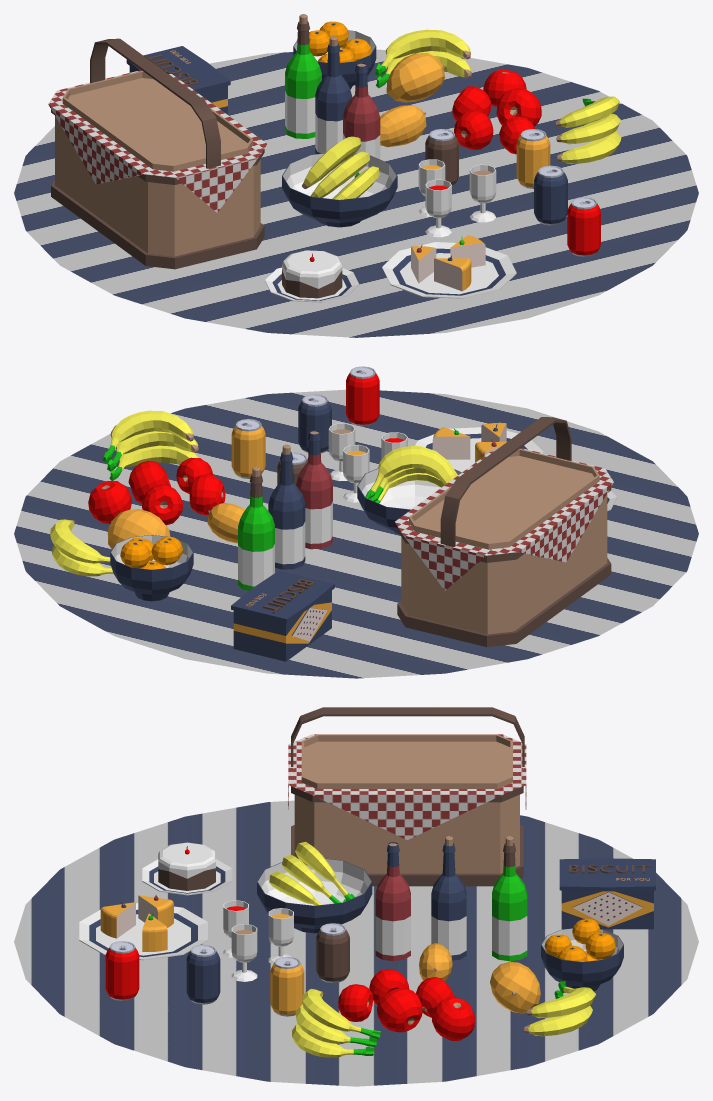
Rendered from low_poly_picnic_asset_pack.glb.
3 views of the same model, one above another, from view 1: azimuth 30°, elevation 25°; view 2: azimuth 150°, elevation 25°; view 3: azimuth 270°, elevation 25° (orthographic).
Parts seen in each view (by area): view 1: SM_zhuobu, SM_fanhe, SM_yilaguan, SM_fruit_banana01, SM_fruit_apple, SM_wan01, SM_fruit_mango, SM_dangao, SM_panzi_01, SM_cup, pCylinder3, SM_fruit_banana02 (+6 smaller); view 2: SM_zhuobu, SM_fanhe, SM_biscuit_box, SM_fruit_banana01, SM_yilaguan, SM_fruit_apple, pCylinder3, pCylinder2, pCylinder1, SM_fruit_banana02, SM_wan02, SM_fruit_mango (+5 smaller); view 3: SM_zhuobu, SM_fanhe, SM_yilaguan, SM_biscuit_box, SM_fruit_apple, SM_fruit_banana01, SM_wan01, SM_dangao, pCylinder3, pCylinder1, SM_panzi_01, SM_cup (+6 smaller).
Part boxes in pixels (bbox=[...]): SM_zhuobu: bbox=[14, 49, 698, 337]; SM_fanhe: bbox=[48, 38, 266, 269]; SM_yilaguan: bbox=[425, 129, 600, 256]; SM_fruit_banana01: bbox=[375, 29, 621, 163]; SM_fruit_apple: bbox=[452, 69, 541, 154]; SM_wan01: bbox=[282, 153, 397, 227]; SM_fruit_mango: bbox=[380, 52, 444, 147]; SM_dangao: bbox=[265, 250, 359, 302]; SM_panzi_01: bbox=[382, 242, 516, 298]; SM_cup: bbox=[418, 159, 496, 237]; pCylinder3: bbox=[285, 14, 321, 138]; SM_fruit_banana02: bbox=[302, 136, 379, 199]; SM_zhuobu: bbox=[14, 389, 698, 678]; SM_fanhe: bbox=[395, 417, 613, 647]; SM_biscuit_box: bbox=[231, 570, 334, 661]; SM_fruit_banana01: bbox=[50, 410, 198, 576]; SM_yilaguan: bbox=[231, 366, 379, 484]; SM_fruit_apple: bbox=[88, 457, 225, 525]; pCylinder3: bbox=[238, 466, 274, 590]; pCylinder2: bbox=[268, 444, 305, 569]; pCylinder1: bbox=[296, 430, 332, 549]; SM_fruit_banana02: bbox=[365, 446, 457, 503]; SM_wan02: bbox=[110, 535, 193, 601]; SM_fruit_mango: bbox=[107, 503, 245, 549]; SM_zhuobu: bbox=[14, 800, 698, 1086]; SM_fanhe: bbox=[288, 707, 526, 886]; SM_yilaguan: bbox=[105, 923, 349, 1016]; SM_biscuit_box: bbox=[559, 858, 655, 929]; SM_fruit_apple: bbox=[338, 969, 474, 1040]; SM_fruit_banana01: bbox=[292, 981, 595, 1057]; SM_wan01: bbox=[257, 858, 372, 933]; SM_dangao: bbox=[142, 842, 232, 895]; pCylinder3: bbox=[492, 836, 527, 961]; pCylinder1: bbox=[375, 842, 410, 961]; SM_panzi_01: bbox=[79, 903, 207, 960]; SM_cup: bbox=[223, 900, 293, 981].
Size of the model in its own units: 144 by 33.91 by 144.
Materials: 15 (3 with a texture image).
